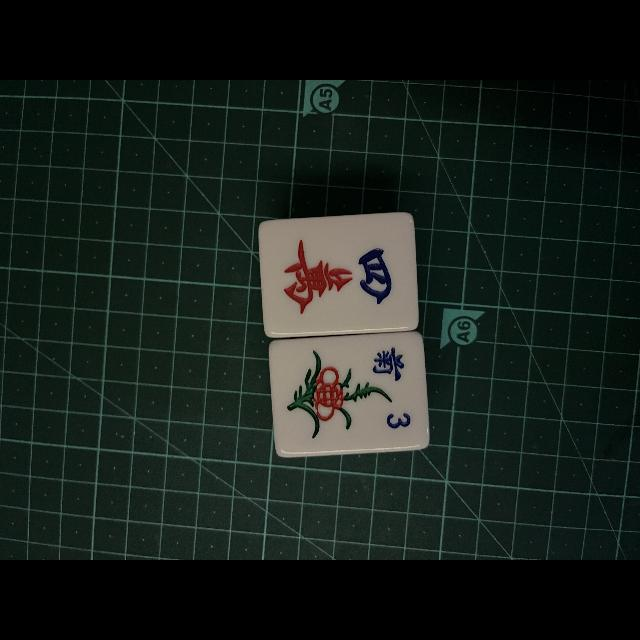c4: (264, 216, 416, 328)
f3: (365, 340, 425, 450)
